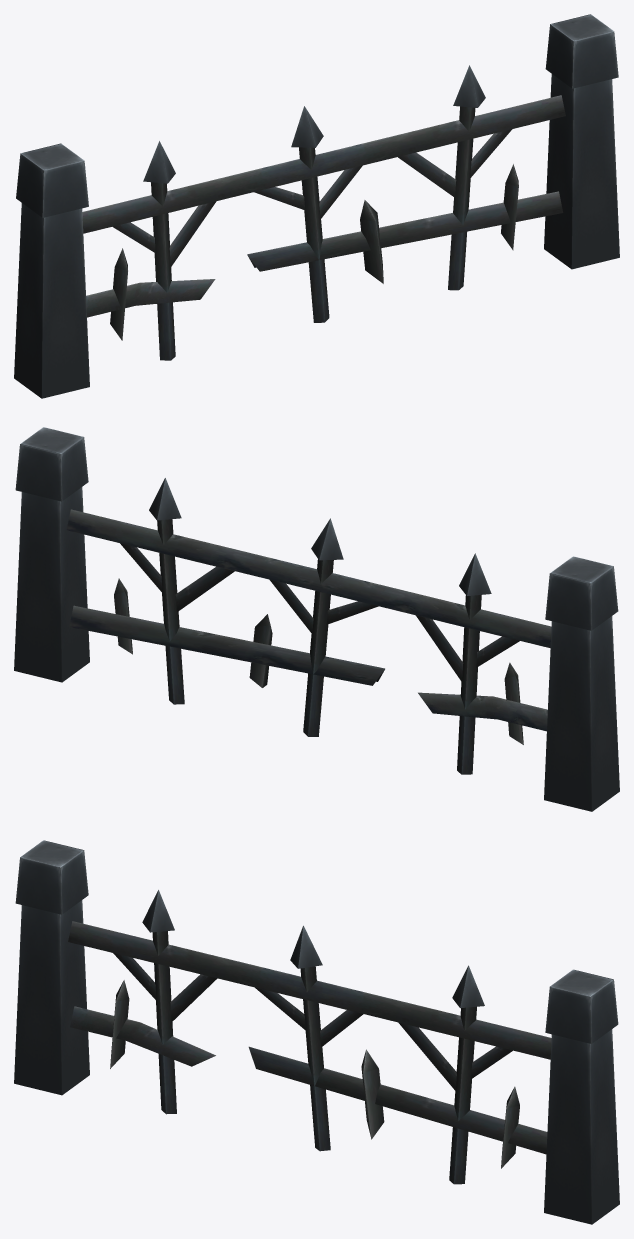
The model's file is haca_zhalan_01.FBX.
3 views of the same model, one above another, from view 1: azimuth 30°, elevation 25°; view 2: azimuth 150°, elevation 25°; view 3: azimuth 330°, elevation 25° (orthographic).
Parts seen in each view (by area): view 1: hacz_zhalan_01; view 2: hacz_zhalan_01; view 3: hacz_zhalan_01.
Part boxes in pixels (x1,y1,x2,y2): hacz_zhalan_01: (14,14,619,398); hacz_zhalan_01: (14,427,619,811); hacz_zhalan_01: (14,840,619,1224).
Size of the model in its own units: 296 by 113 by 24.7.
